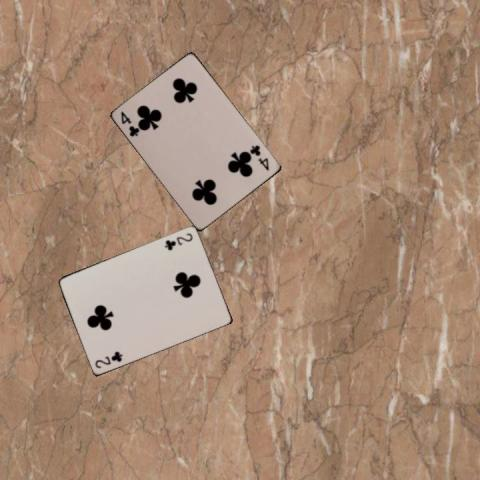2c: (162, 230, 194, 251), (92, 348, 124, 369)
4c: (247, 142, 271, 172), (118, 108, 141, 138)
